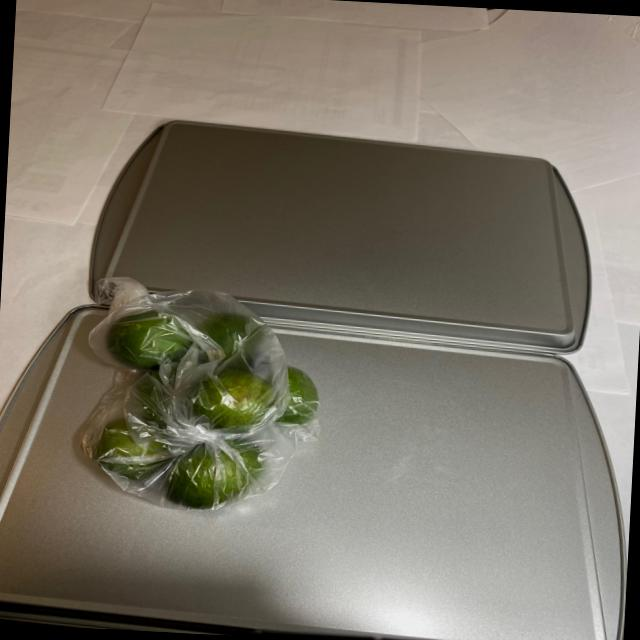lemon: (81, 302, 316, 516)
